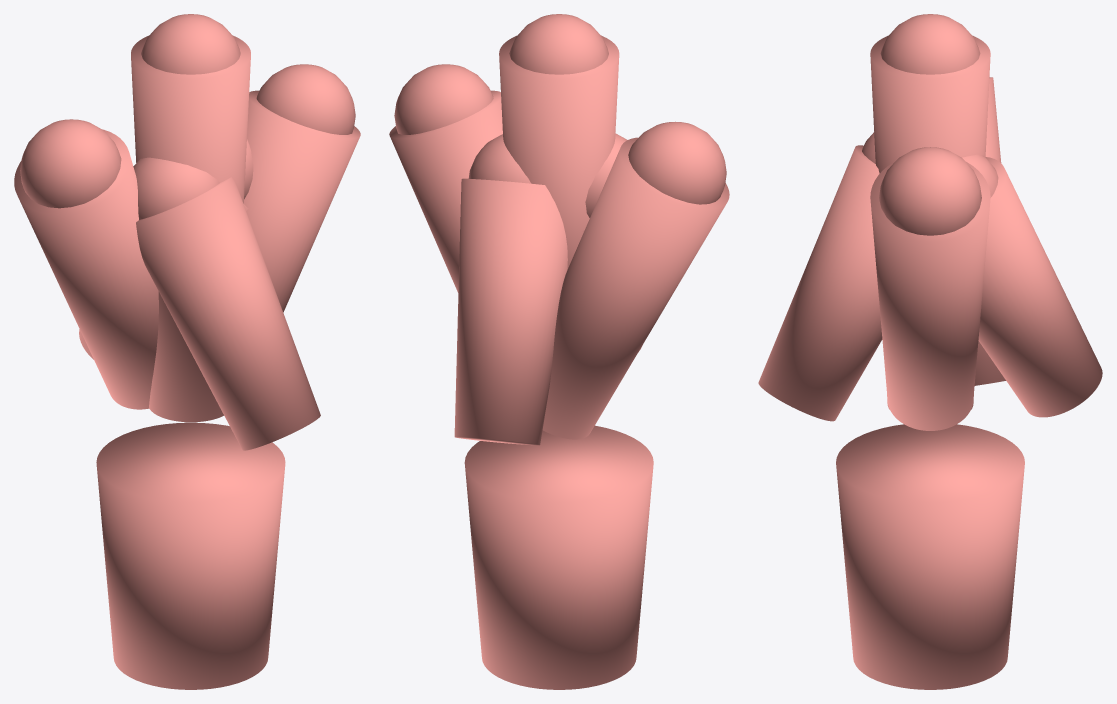
The model's file is coral.glb.
The picture shows the model from 3 angles, left to right: view 1: azimuth 30°, elevation 25°; view 2: azimuth 150°, elevation 25°; view 3: azimuth 270°, elevation 25°; orthographic projection.
Visible parts, largest first — view 1: Cone, Cone.005, Cone.003, Cone.001, Cone.002, Sphere.002, Sphere.001, Sphere, Sphere.004; view 2: Cone, Cone.004, Cone.003, Cone.001, Cone.002, Sphere.002, Sphere.001, Sphere, Sphere.003, Sphere.004; view 3: Cone, Cone.002, Cone.005, Cone.004, Cone.001, Sphere.001, Sphere, Cone.003, Sphere.003.
Part boxes in pixels (x1,y1,x2,y2): Cone: (96, 422, 285, 689); Cone.005: (136, 177, 320, 450); Cone.003: (14, 129, 158, 409); Cone.001: (131, 35, 250, 422); Cone.002: (243, 90, 360, 312); Sphere.002: (20, 119, 121, 208); Sphere.001: (256, 64, 355, 134); Sphere: (141, 14, 240, 74); Sphere.004: (133, 157, 219, 219); Cone: (464, 425, 653, 689); Cone.004: (454, 178, 567, 445); Cone.003: (542, 137, 729, 439); Cone.001: (499, 35, 619, 269); Cone.002: (389, 90, 502, 292); Sphere.002: (628, 121, 726, 204); Sphere.001: (394, 64, 493, 134); Sphere: (509, 14, 608, 74); Sphere.003: (468, 134, 530, 183); Sphere.004: (585, 133, 627, 217); Cone: (836, 424, 1024, 689); Cone.002: (870, 162, 990, 430); Cone.005: (758, 145, 882, 421); Cone.004: (978, 157, 1102, 417); Cone.001: (870, 35, 990, 409); Sphere.001: (879, 147, 981, 235); Sphere: (880, 14, 980, 74); Cone.003: (974, 77, 1005, 385); Sphere.003: (962, 154, 998, 197).
Bounding box in the file's own units: 0.8949 × 1.67 × 0.8174.
